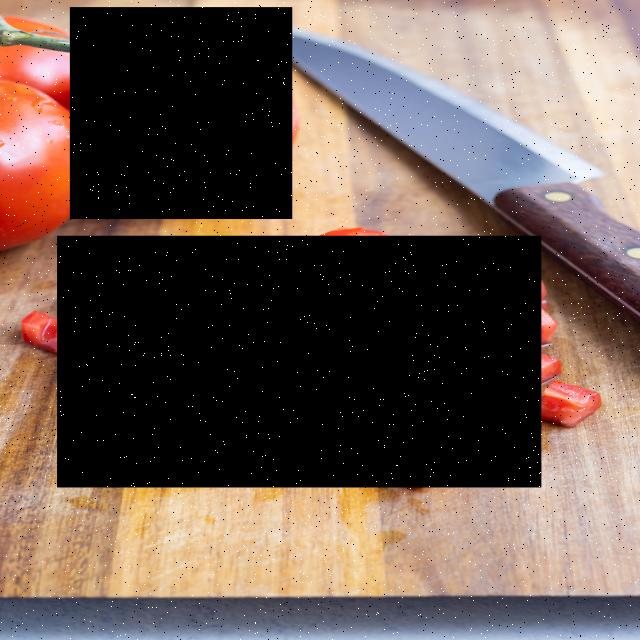Tomato: (58, 236, 542, 488), (70, 8, 292, 220)
